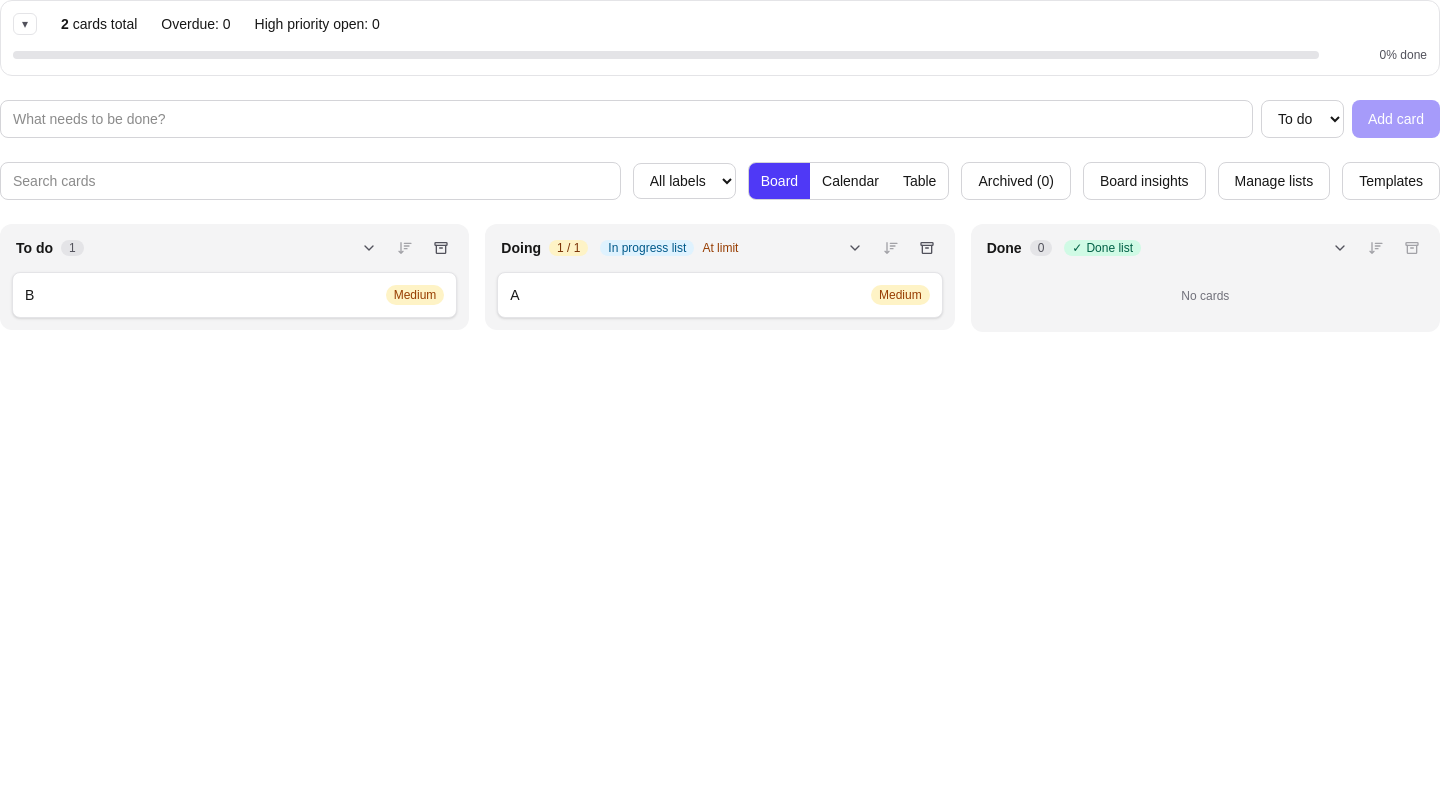
Test: WIP limits in <Board /> › is never blocked: moving into a full column works and warns
Check: the text "At limit" is shown, box [702, 240, 738, 256]
Step 1. Click the button "B" → click(30, 295), box [25, 285, 34, 305]
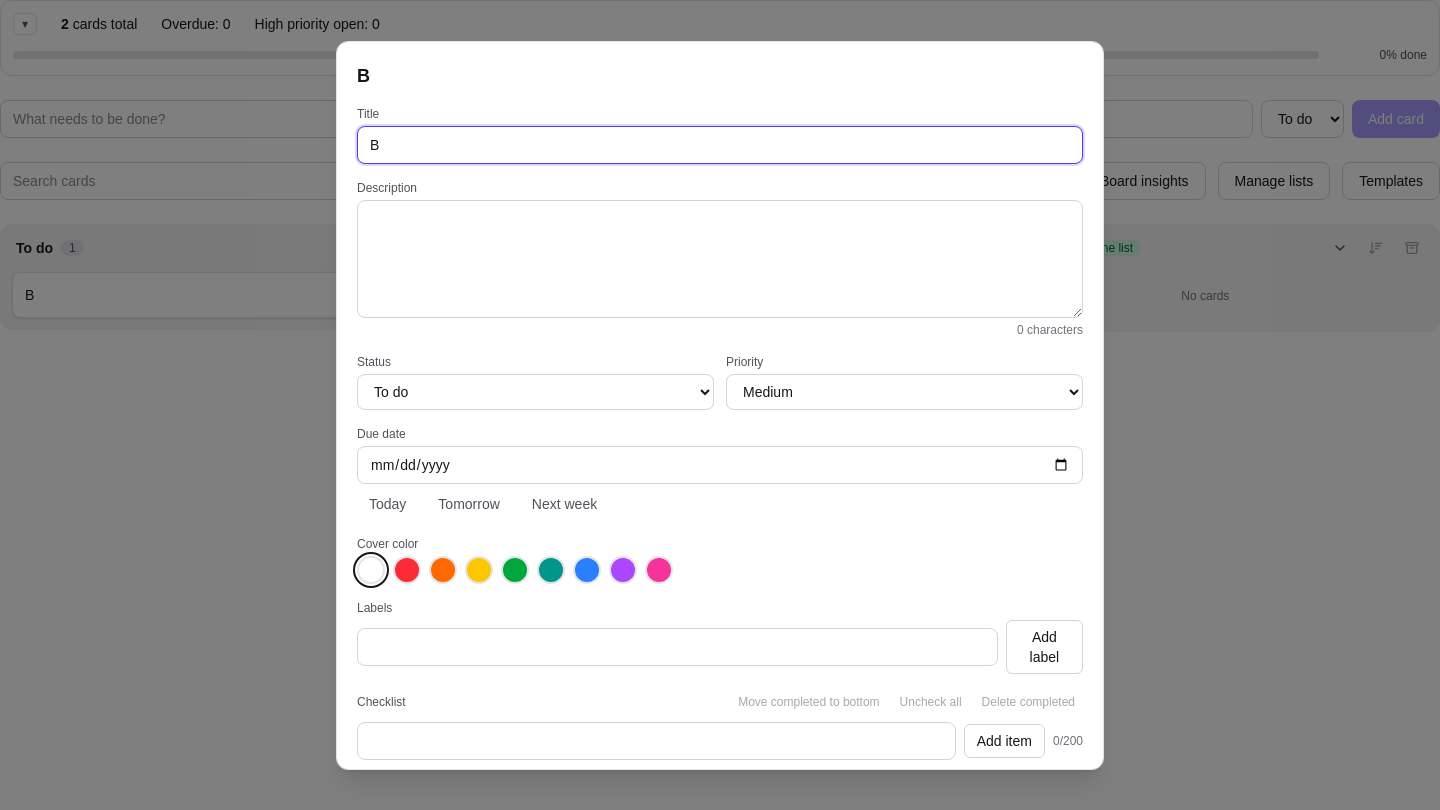
Step 2. Select "Doing" in the dropdown labelled "Status" → (536, 392), box [357, 374, 714, 410]
(page scrolled)
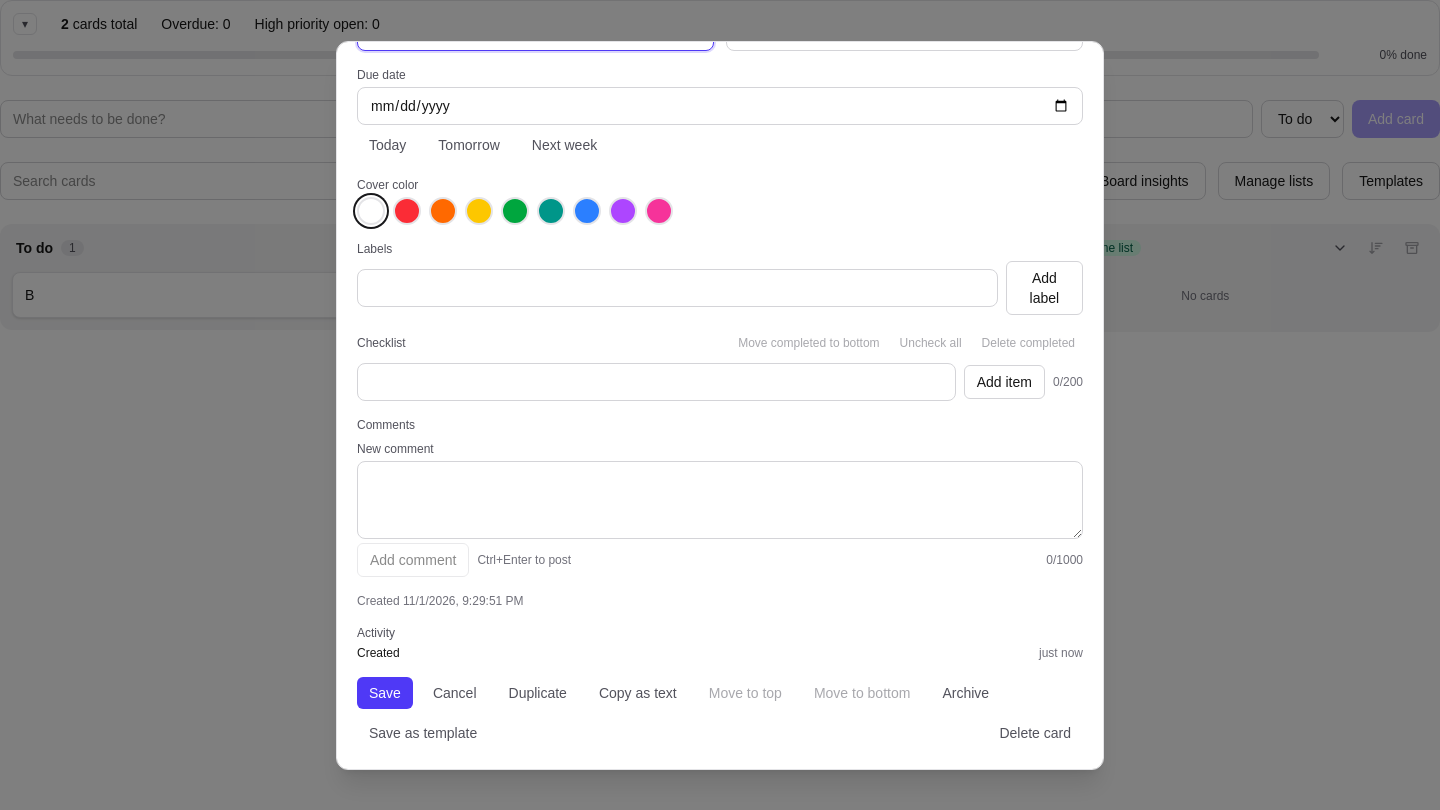
Step 3. Click the button "Save" → click(385, 692), box [357, 676, 413, 708]
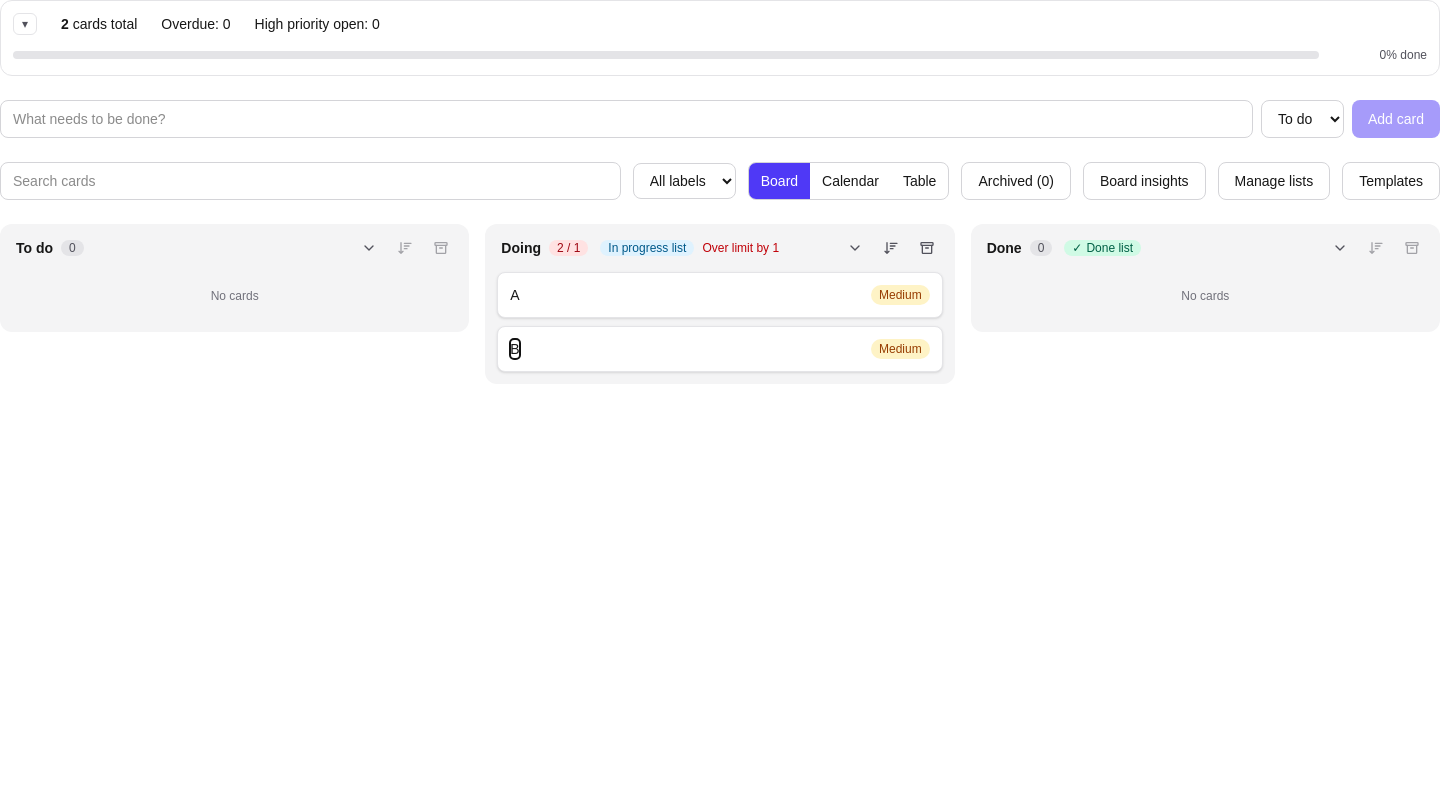
Check: the text "Over limit by 1" is shown, box [702, 240, 779, 256]
